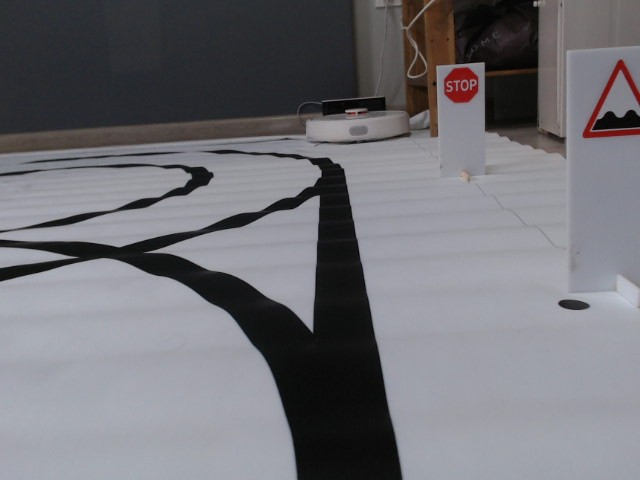Nerov: (580, 57, 640, 139)
